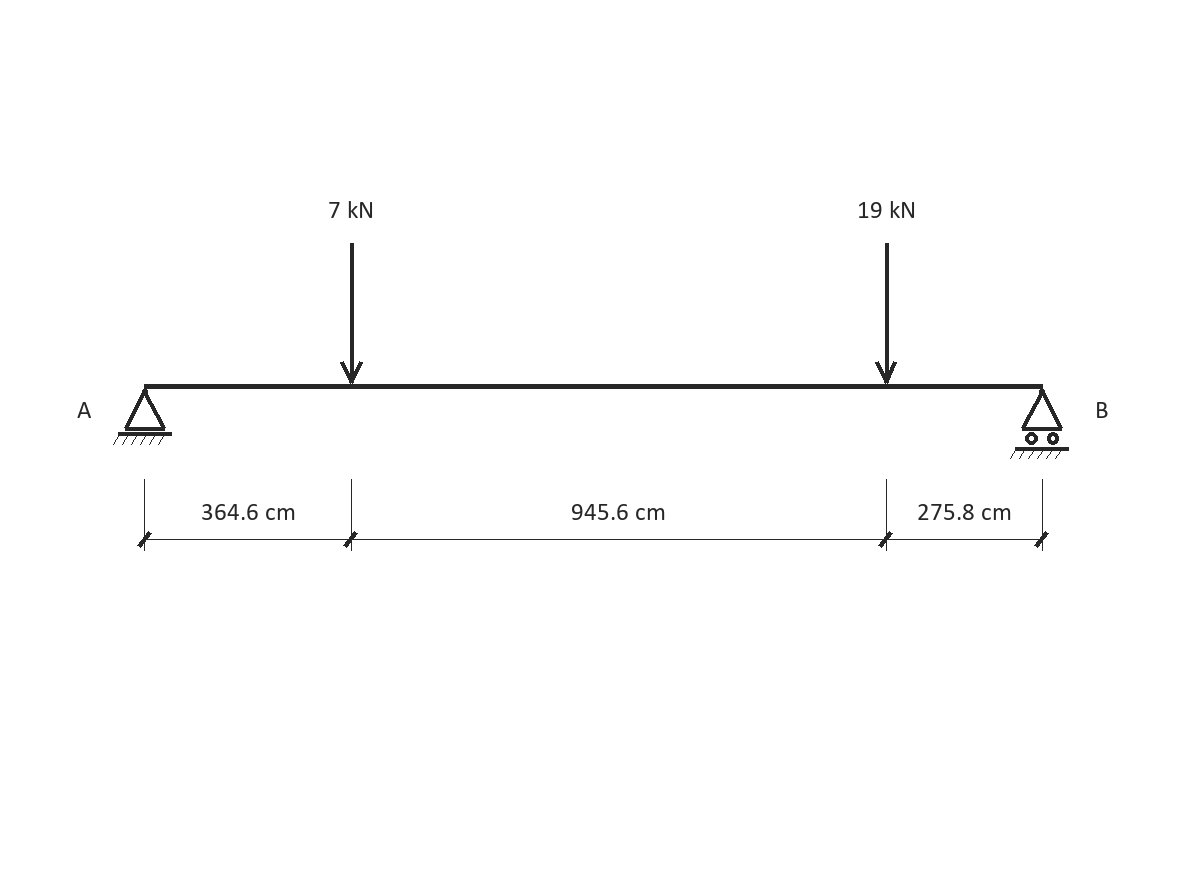pin_support: (113, 388, 172, 445)
point_load: (340, 243, 363, 384), (875, 243, 897, 384)
roller_support: (1010, 388, 1069, 459)
